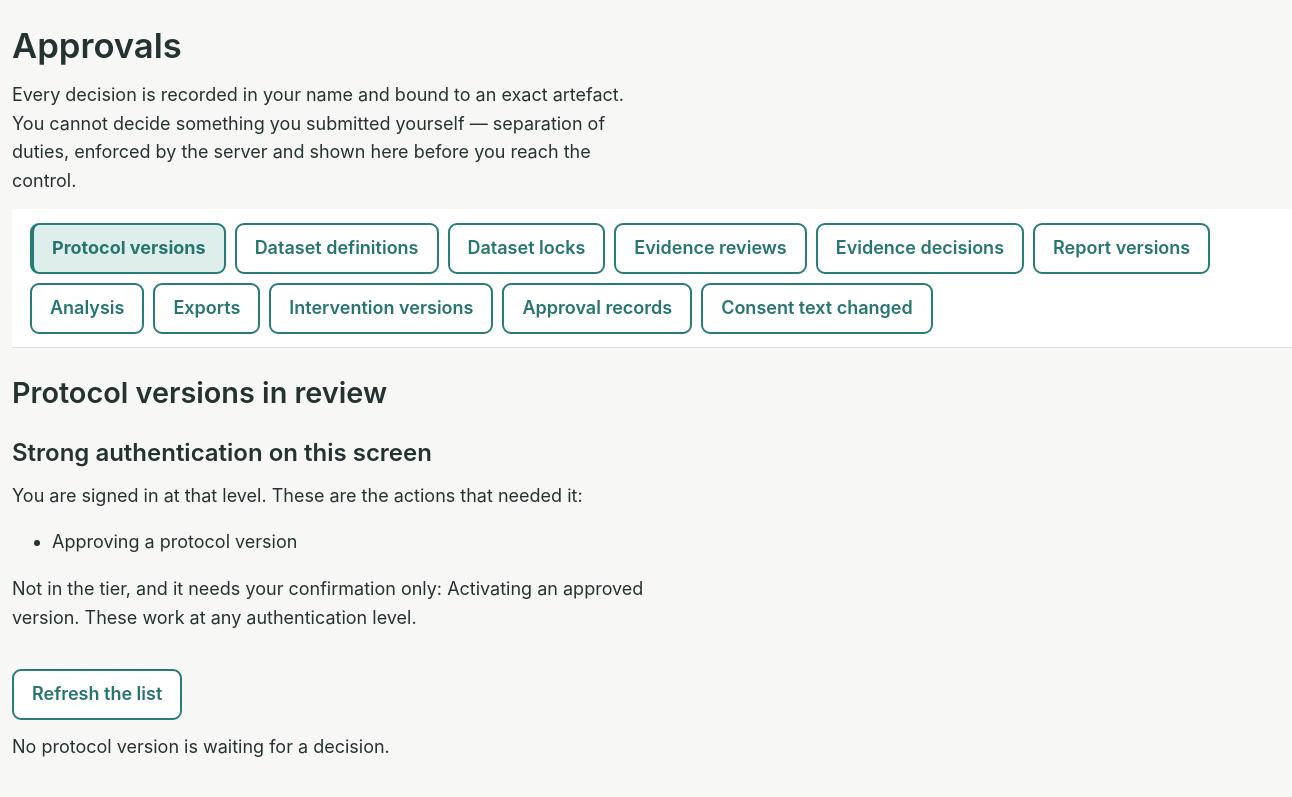
Scenario: approving an evidence review › your own submission is refused before the button, not after
What coordinates should you click on to do the following:
click the button "Evidence reviews"
I would click on:
 (710, 248)
Its box is [614,223,807,274].
(page scrolled)
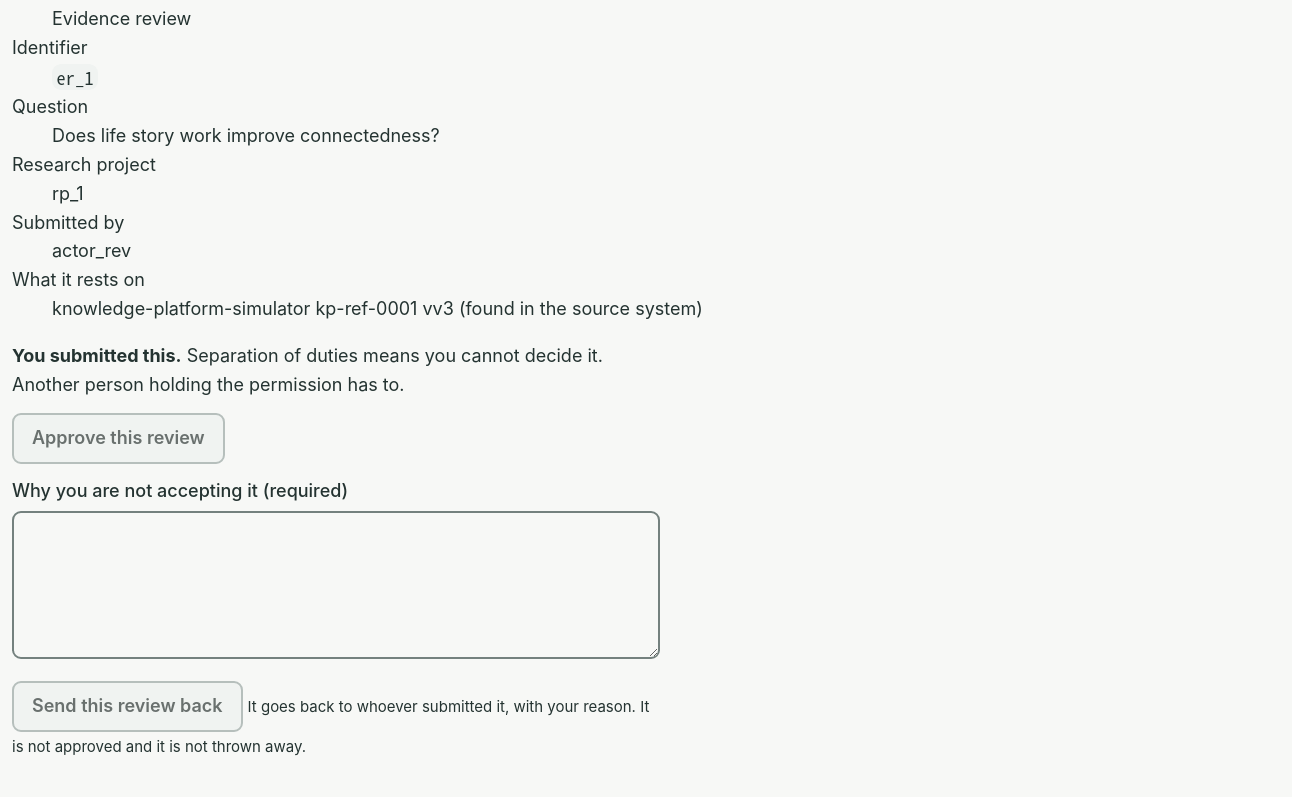
Now the button "Approve this review" is disabled, box [12,413,225,464]
